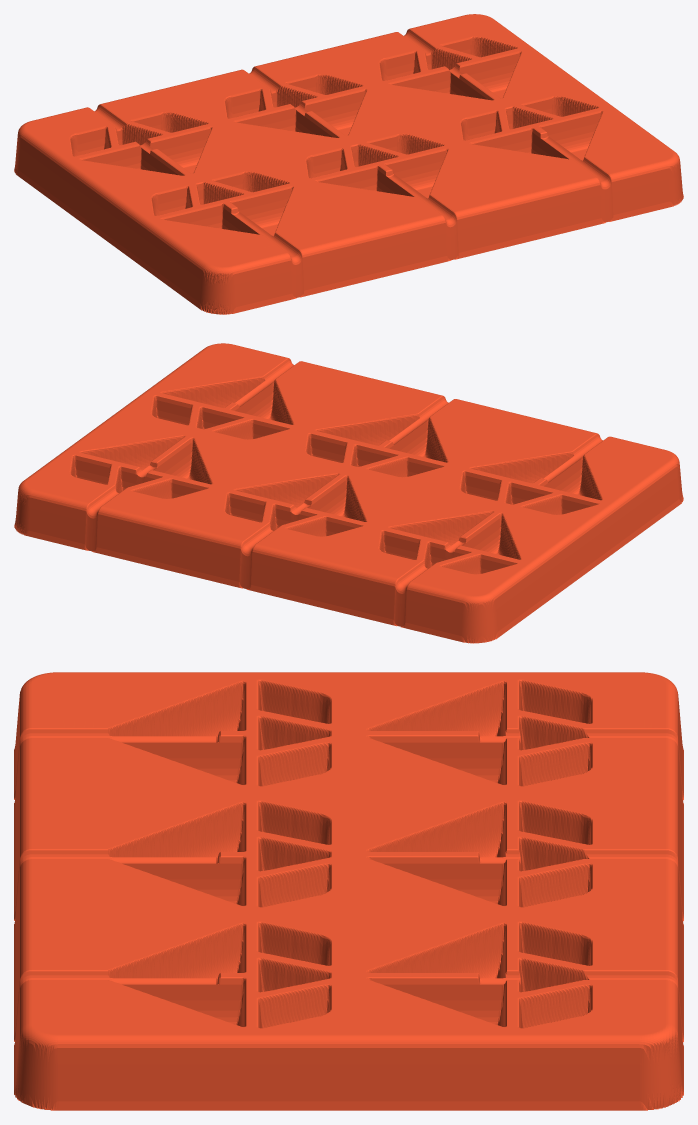
File: mold.glb
The picture shows the model from 3 angles, top to bottom: view 1: azimuth 30°, elevation 25°; view 2: azimuth 150°, elevation 25°; view 3: azimuth 270°, elevation 25°; orthographic projection. The views are drawn at different scales.
Parts seen in each view (by area): view 1: geometry_0; view 2: geometry_0; view 3: geometry_0.
Part boxes in pixels (box(x1,y1,x2,y2)): geometry_0: box(14, 14, 683, 314); geometry_0: box(14, 343, 683, 643); geometry_0: box(14, 672, 683, 1110).
Size of the model in its own units: 0.1824 by 0.0155 by 0.1373.
